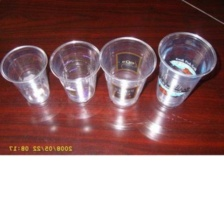glass: (149, 29, 219, 109), (96, 34, 160, 110), (46, 38, 105, 109), (0, 43, 52, 105)
